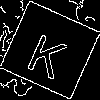K: (24, 24, 73, 81)
